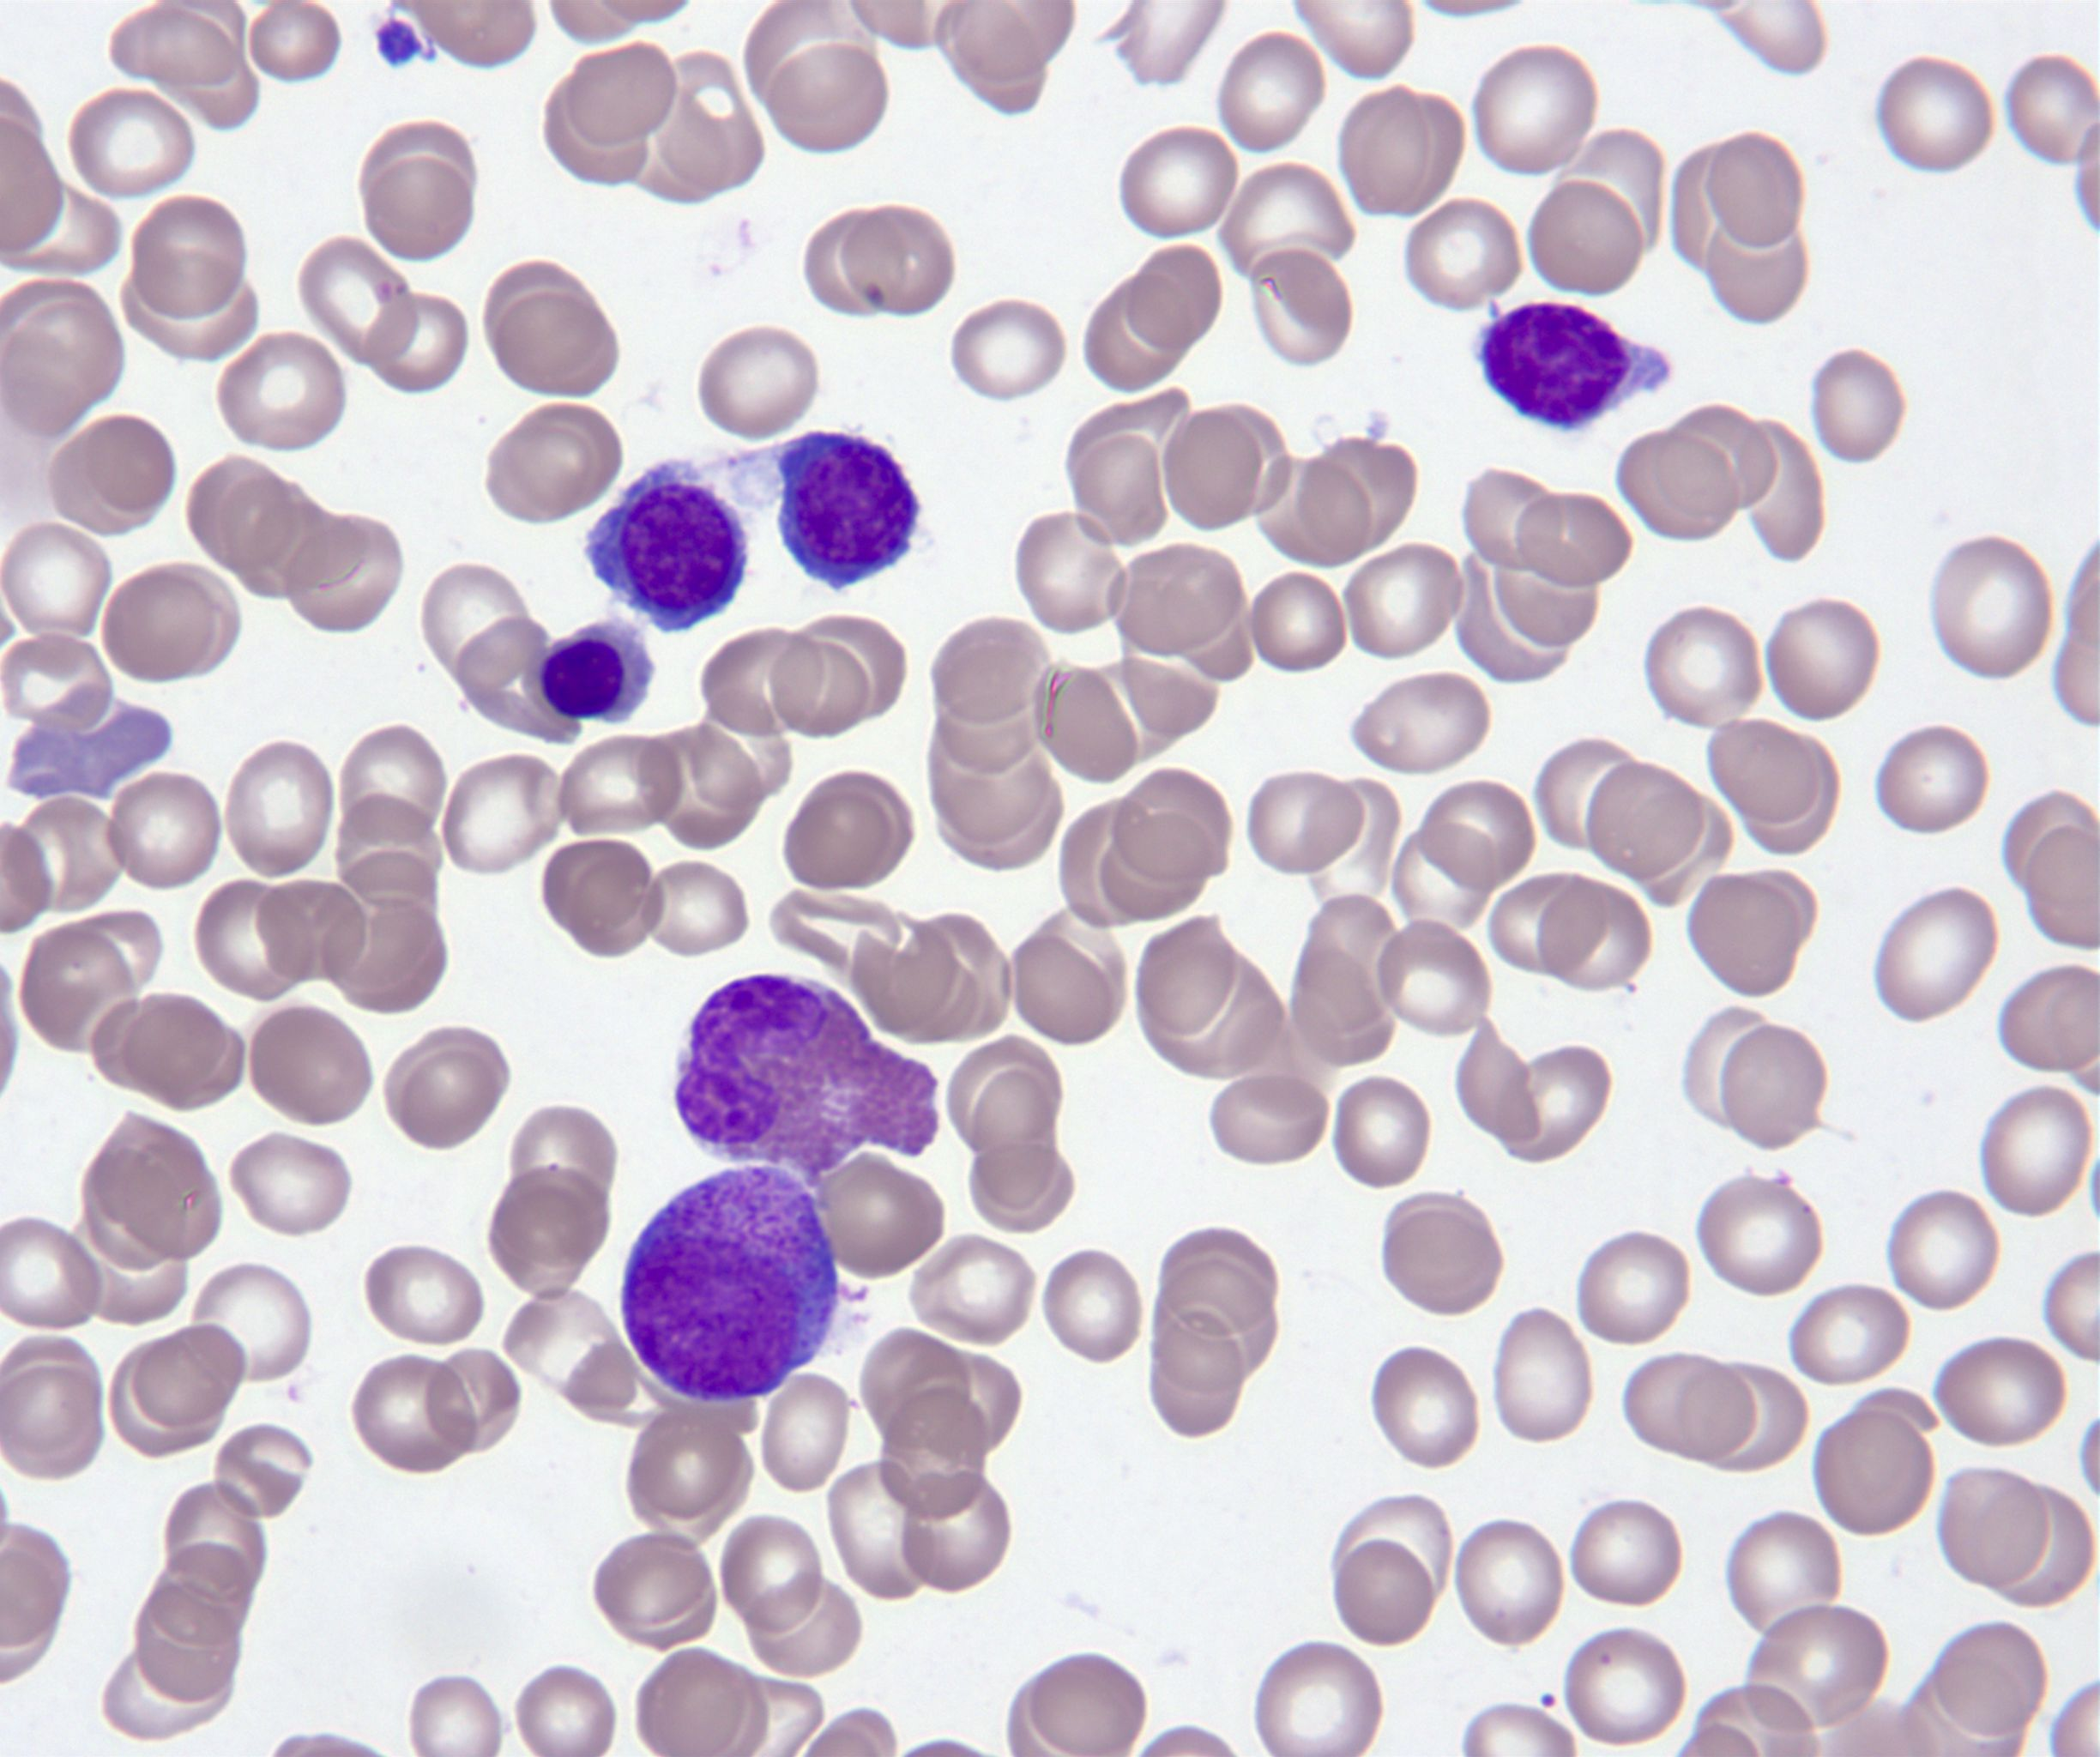2: (621, 1169, 837, 1405)
23: (586, 462, 747, 633), (776, 431, 917, 591)
24: (522, 619, 654, 724)
32: (1477, 307, 1671, 427)
E3: (678, 974, 937, 1185)
